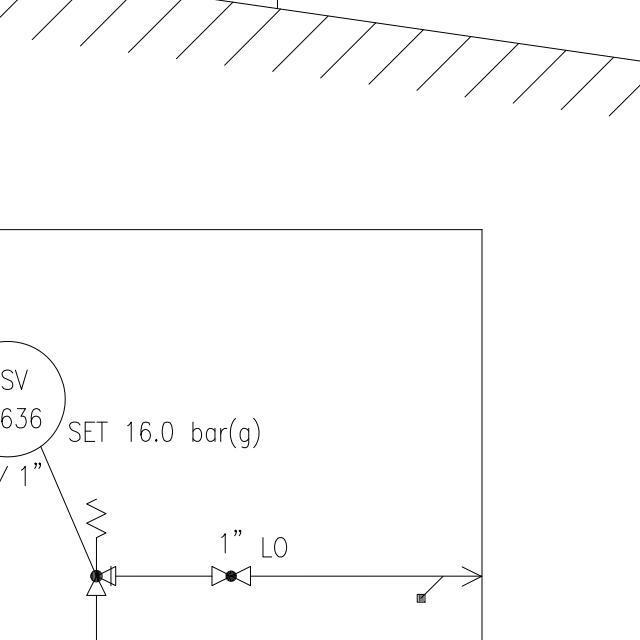BV2: (206, 561, 255, 590)
RPV: (78, 493, 125, 600)
